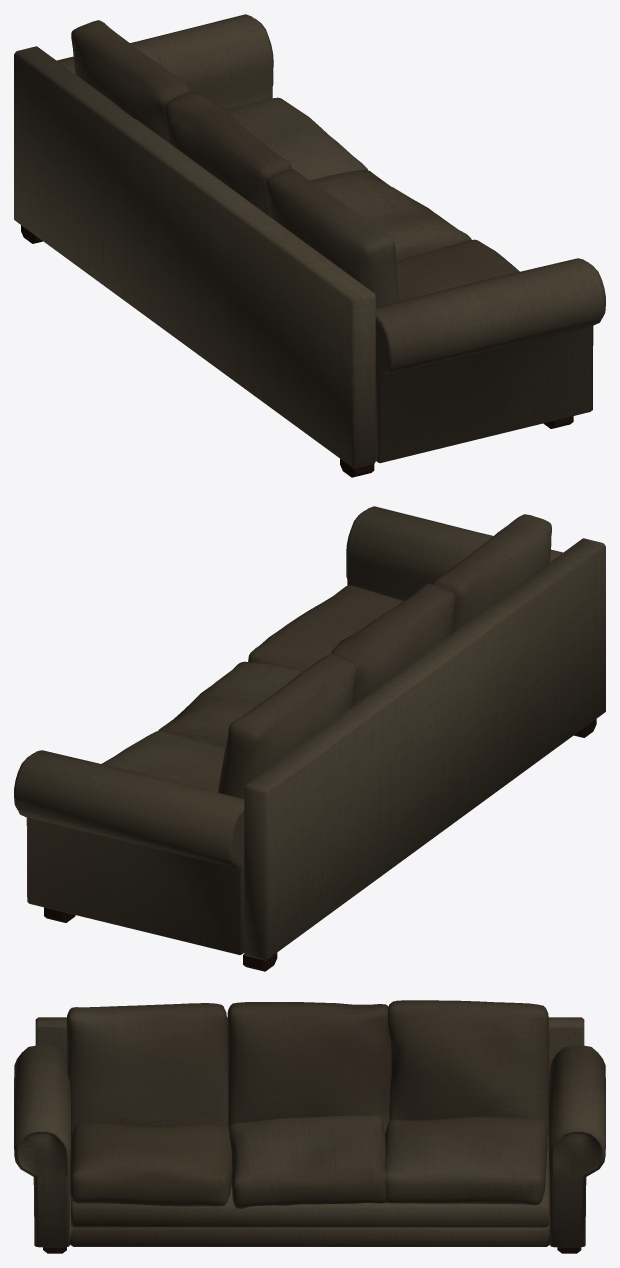
Rendered from Couch.glb.
The picture shows the model from 3 angles, top to bottom: view 1: azimuth 30°, elevation 25°; view 2: azimuth 150°, elevation 25°; view 3: azimuth 270°, elevation 25°; orthographic projection. The views are drawn at different scales.
Parts seen in each view (by area): view 1: Couch; view 2: Couch; view 3: Couch.
Part boxes in pixels (x1,y1,x2,y2): Couch: (14,14,605,477); Couch: (14,506,605,971); Couch: (14,1000,605,1253).
Bounding box in the file's own units: 3.57 × 3.14 × 9.23.
1 material, 1 textured.
